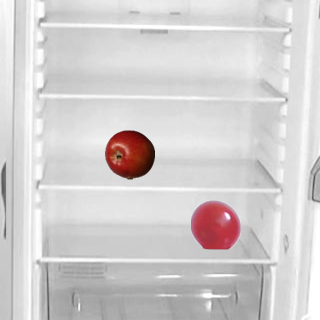Apple Braeburn: (104, 129, 154, 179)
Redcurrant: (190, 199, 240, 249)
